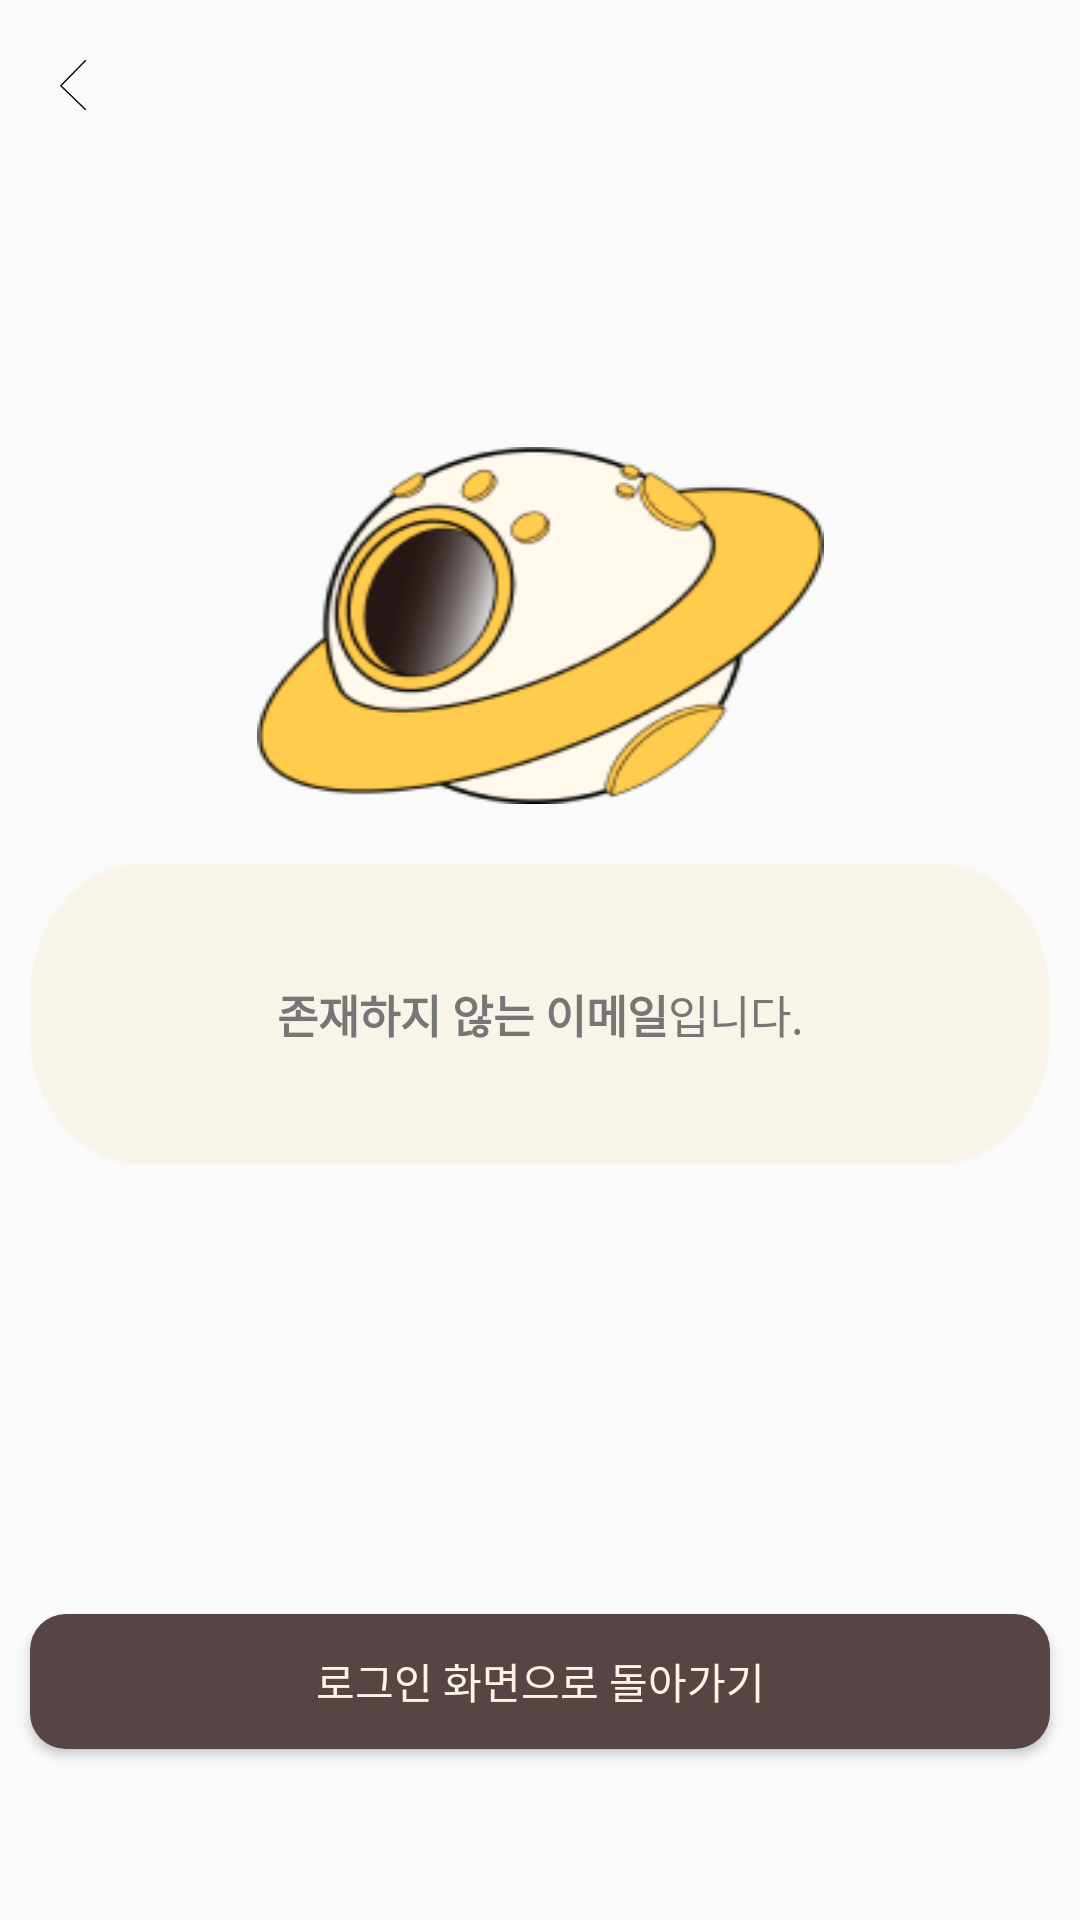

Screen size 1080 × 1920. Icon name, then its center in pixels as (x=x, y=y):
backbtn: (x=73, y=85)
